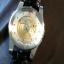watch: (8, 3, 46, 58)
